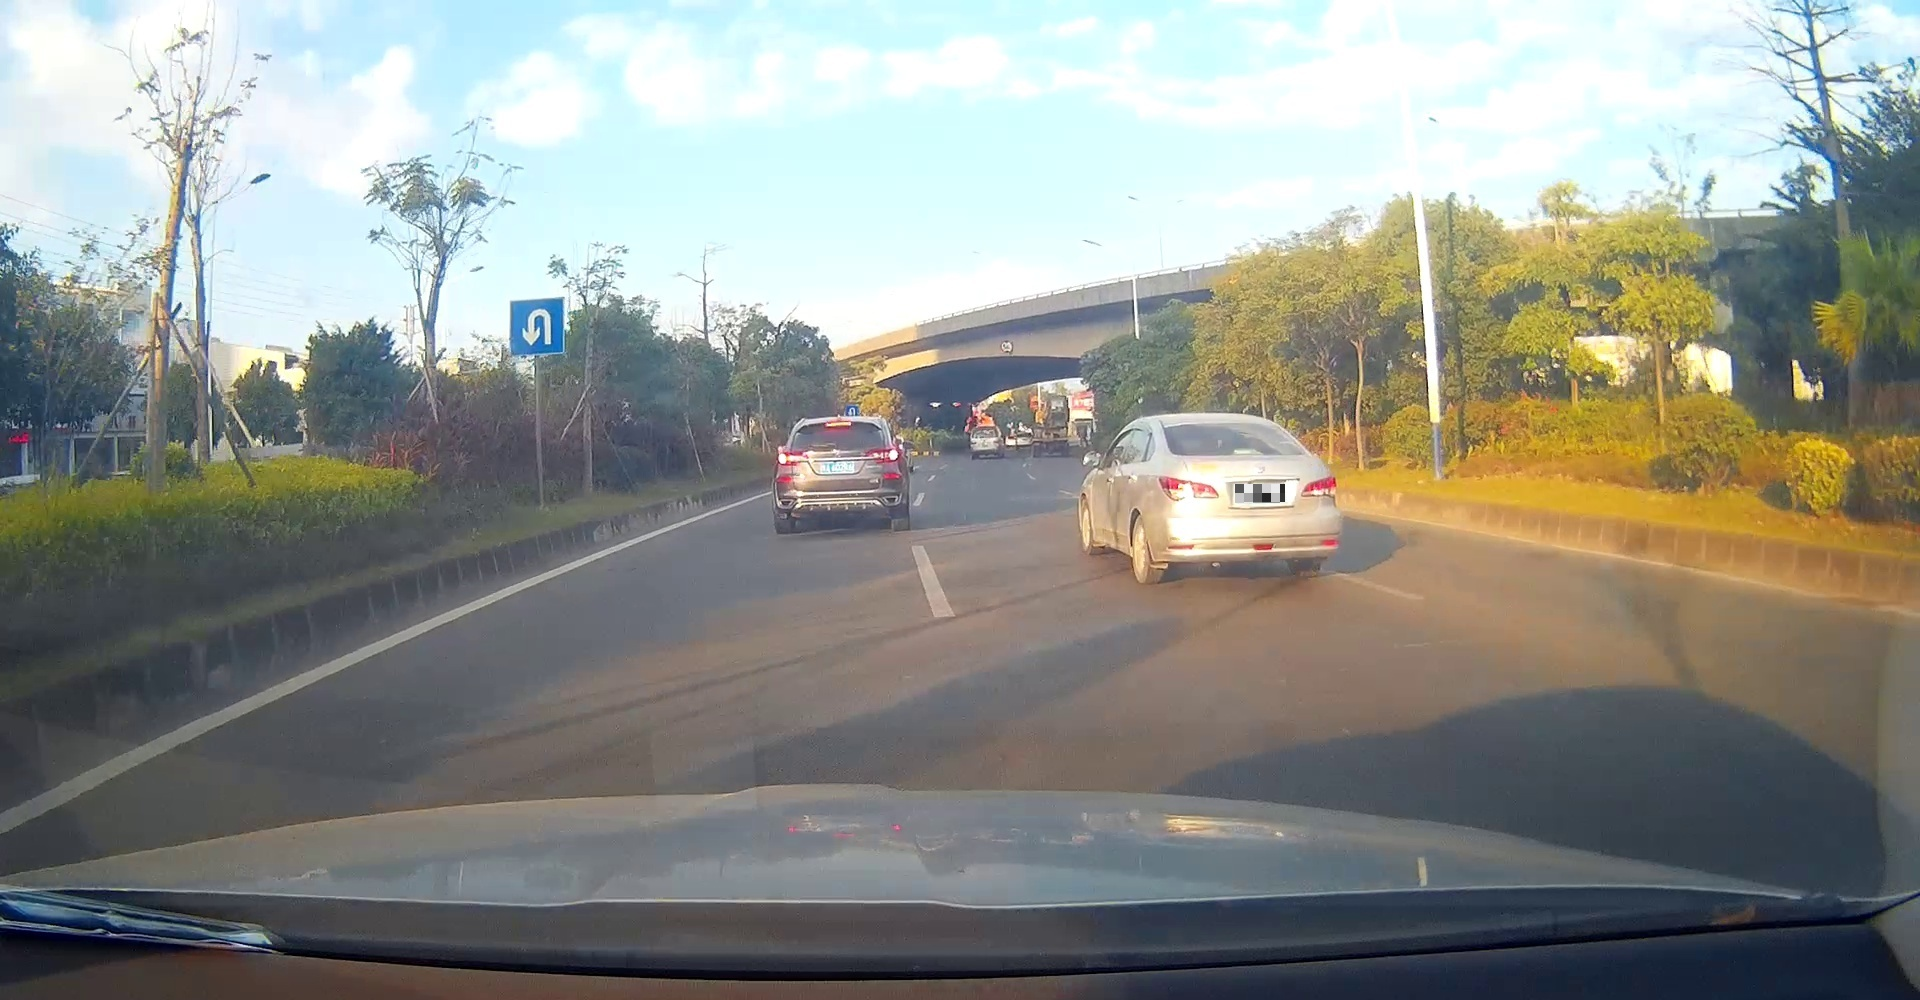L_light: (1158, 476, 1219, 501), (777, 452, 808, 466)
R_light: (1300, 476, 1338, 497), (863, 447, 902, 463)
T_light: (1230, 448, 1263, 456), (825, 421, 851, 426)
day-brake: (771, 416, 909, 533)
day-no: (1157, 412, 1342, 582)
plate_1: (1236, 484, 1285, 503)
